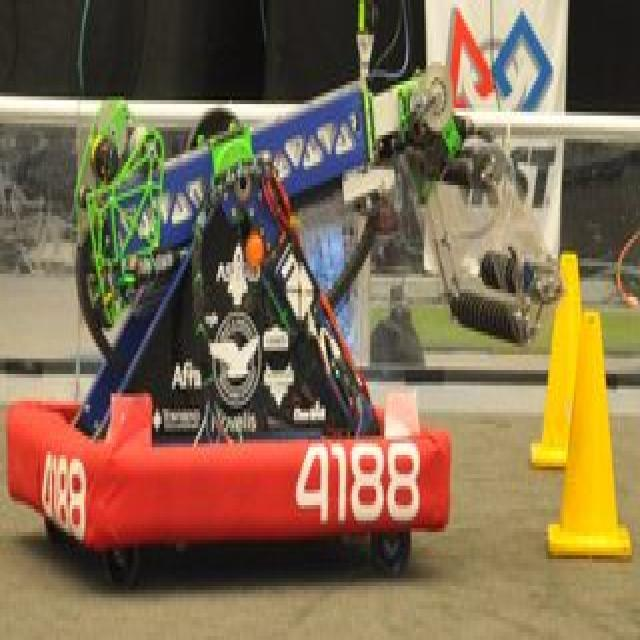robot: (6, 77, 566, 581)
